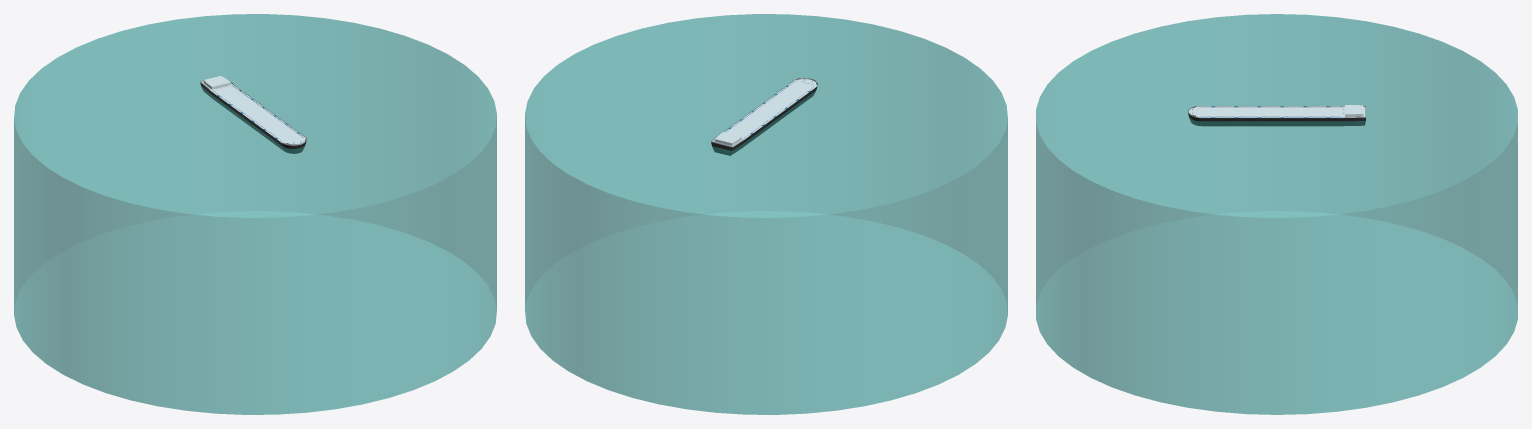
File: Bunkertanker_01.FBX
3 views of the same model, side by side, from view 1: azimuth 30°, elevation 25°; view 2: azimuth 150°, elevation 25°; view 3: azimuth 270°, elevation 25° (orthographic).
Parts seen in each view (by area): view 1: Water(delete when done), Bunkertanker; view 2: Water(delete when done), Bunkertanker; view 3: Water(delete when done), Bunkertanker.
Boxes of the visible parts, left/top/right/bottom form: Water(delete when done): left=14, top=14, right=496, bottom=414; Bunkertanker: left=200, top=76, right=306, bottom=153; Water(delete when done): left=525, top=14, right=1007, bottom=414; Bunkertanker: left=711, top=78, right=817, bottom=155; Water(delete when done): left=1036, top=14, right=1517, bottom=414; Bunkertanker: left=1188, top=105, right=1365, bottom=126.
Bounding box in the file's own units: 400 × 186 × 399.
